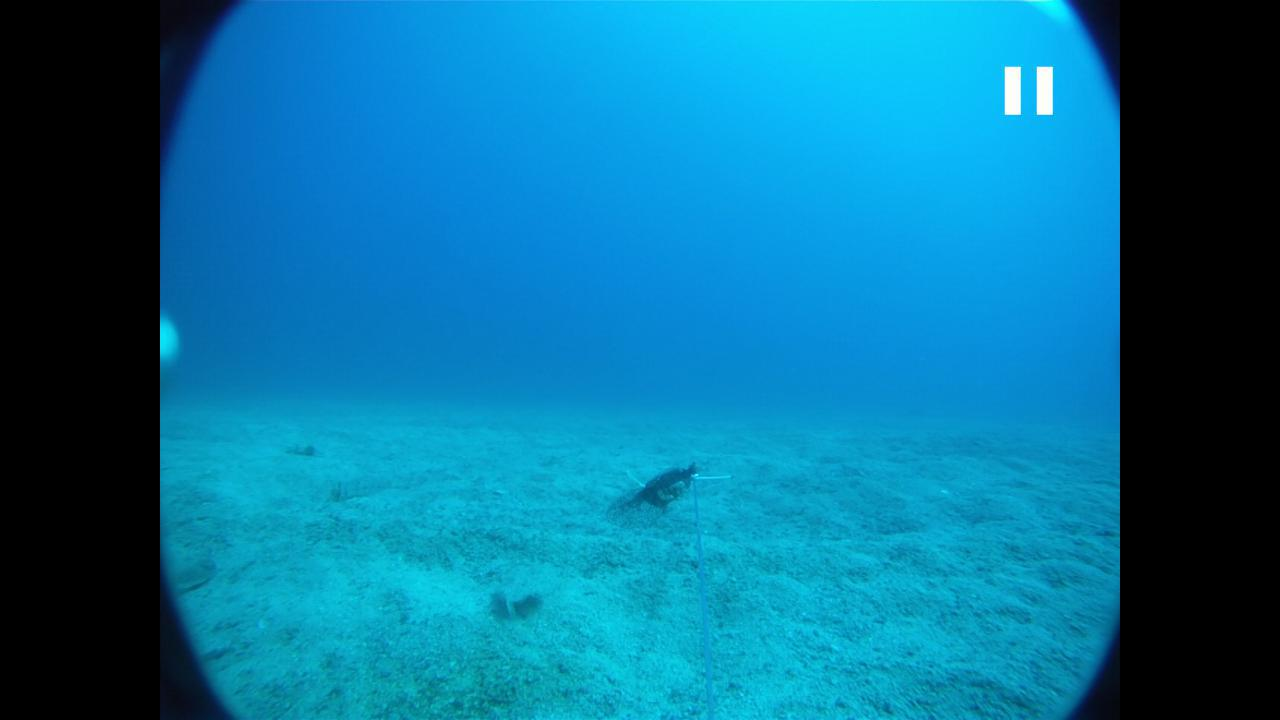bothus: (489, 565, 547, 627)
